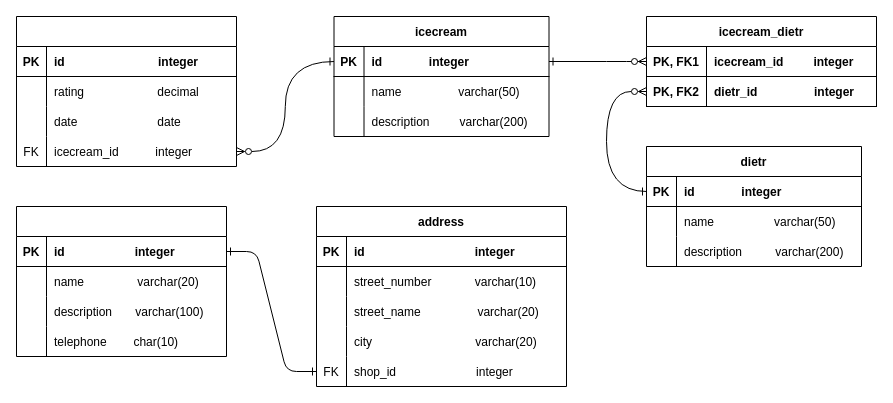
Image size: 893x403. Some labels were removed from this diagram. The box of each missing label's shape, as (x1, y1, x2, y2) in pixels:
review: (16, 16, 236, 166)
shop: (16, 206, 226, 356)
